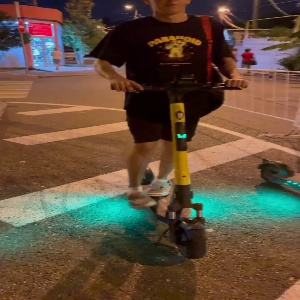human on a scooter: (83, 1, 252, 260)
